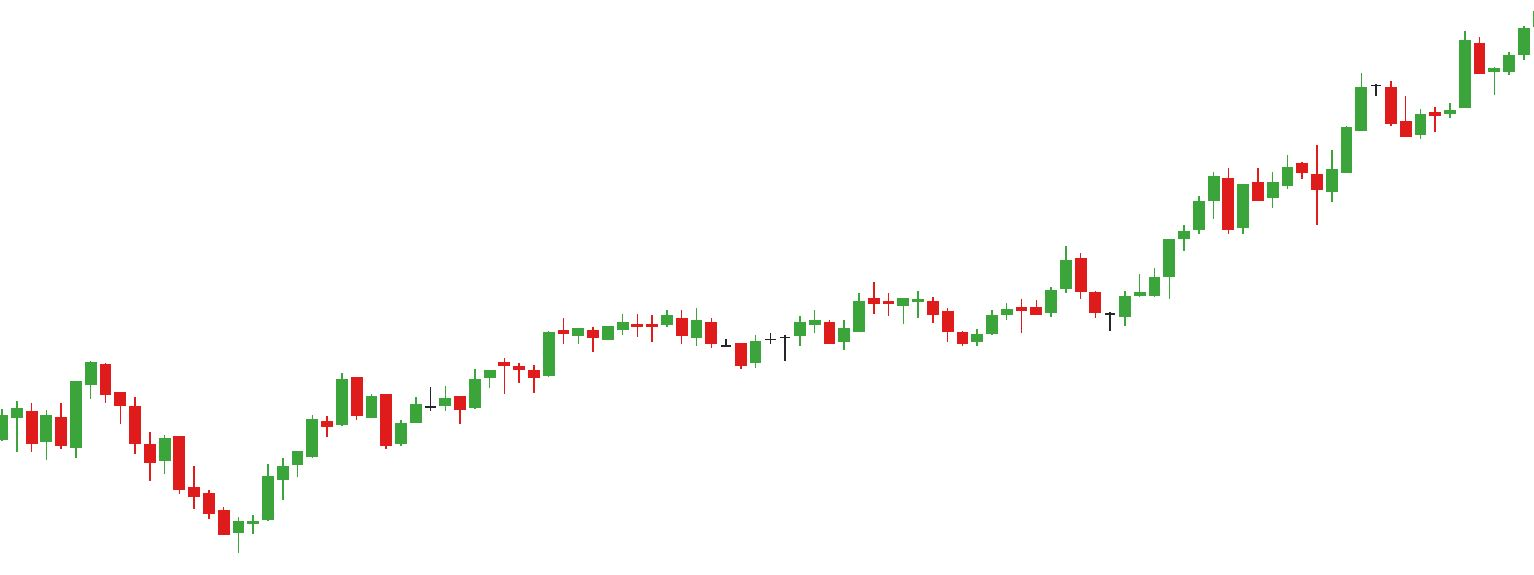buy: (322, 391, 410, 461)
